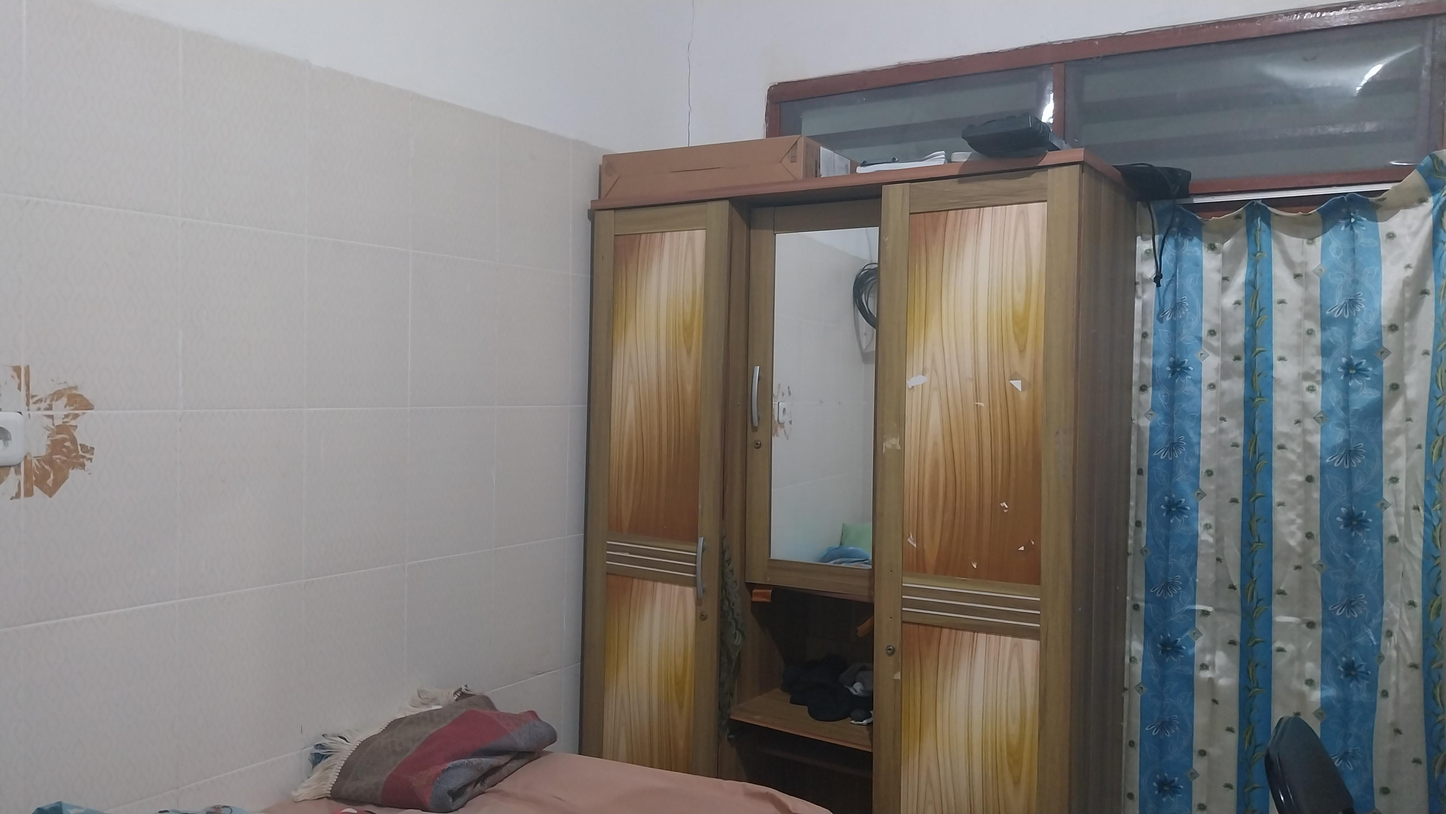bed: (459, 752, 827, 814), (266, 799, 347, 814), (357, 806, 415, 814)
cabinet-merged: (579, 140, 1136, 814)
chair: (1249, 704, 1358, 814)
curtain: (1123, 152, 1446, 814)
